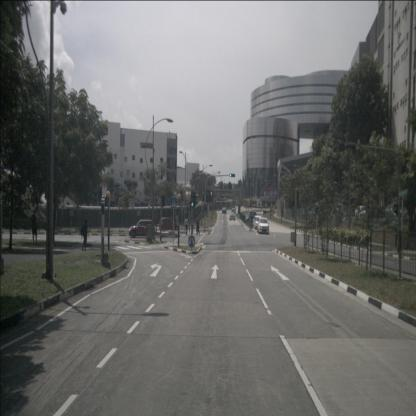human-pedestrian-adult: (80, 219, 90, 252), (31, 209, 38, 244), (394, 224, 399, 248), (184, 216, 190, 236), (196, 217, 200, 236)
vehicle-car: (129, 219, 156, 238), (158, 217, 178, 232), (354, 206, 370, 218), (257, 218, 269, 234), (252, 215, 263, 230), (247, 210, 256, 224), (230, 212, 235, 221), (221, 207, 226, 214), (231, 207, 236, 214)
